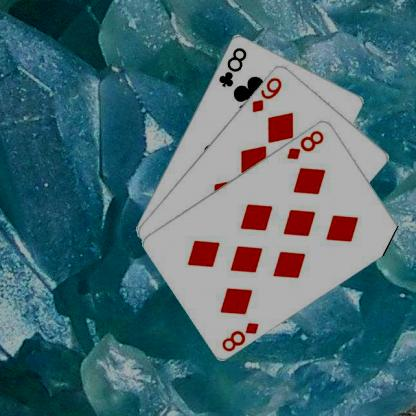8C: (216, 44, 248, 88)
8D: (284, 127, 325, 161), (219, 319, 261, 352)
9D: (249, 74, 283, 113)
